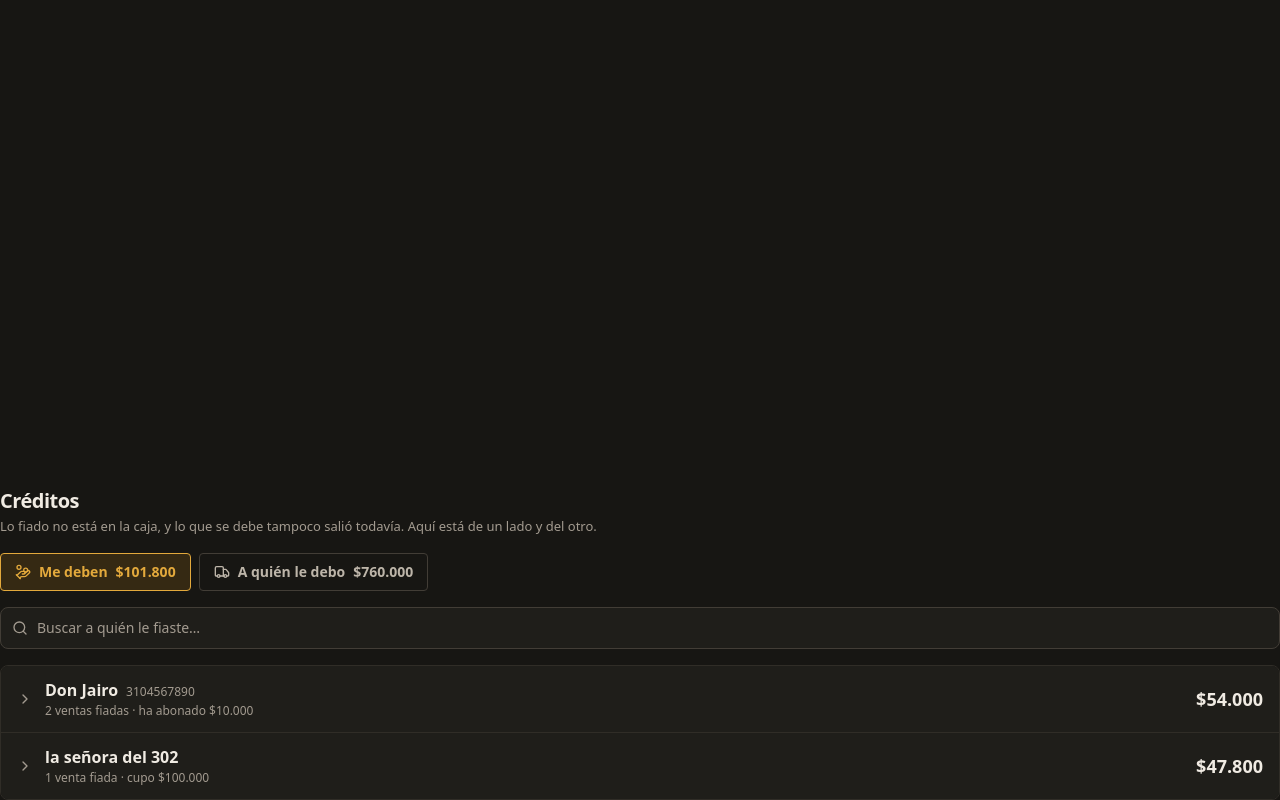
Test case: recibir un abono › «Todo» llena el saldo de esa venta
(page scrolled)
Click the text "Don Jairo": (82, 690) [45,678,118,700]
(page scrolled)
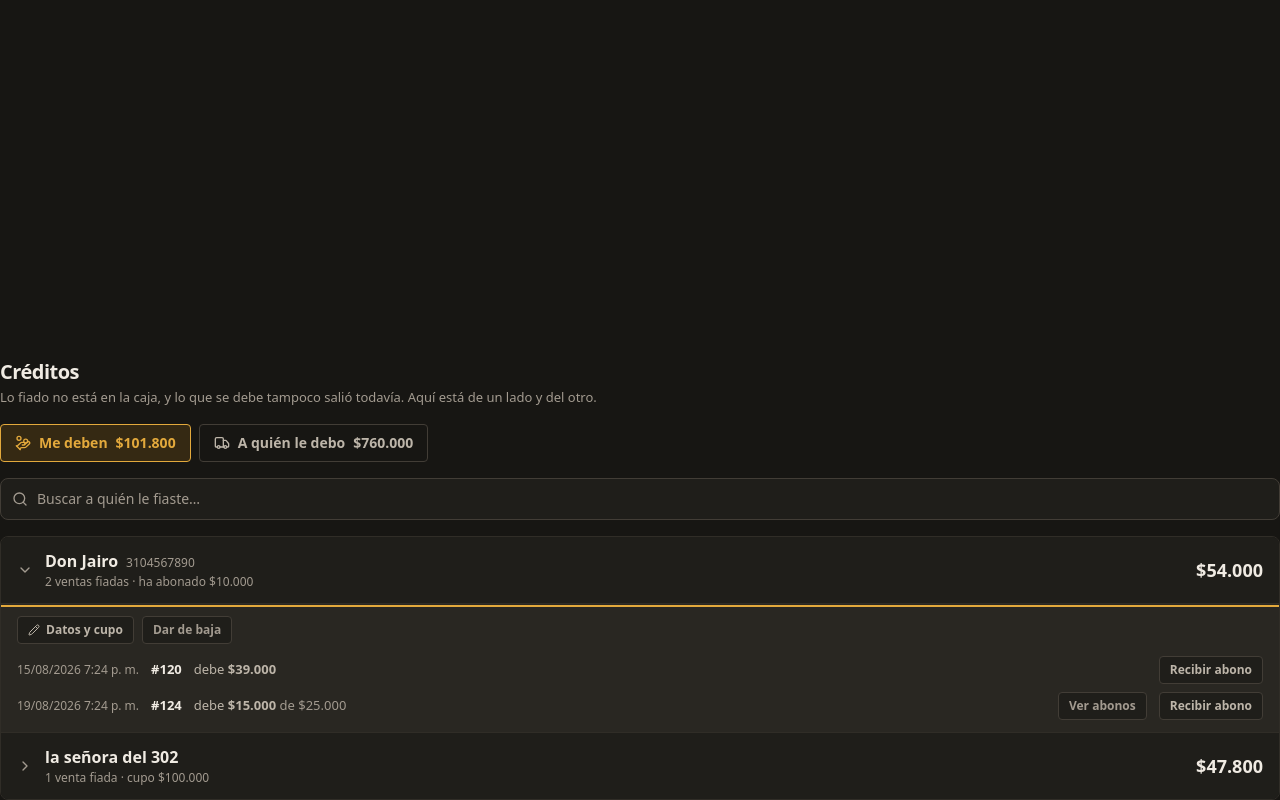
Click the button "Recibir abono" in the row of "15/08/2026 7:24 p. m.": (1211, 670) [1159,656,1263,684]
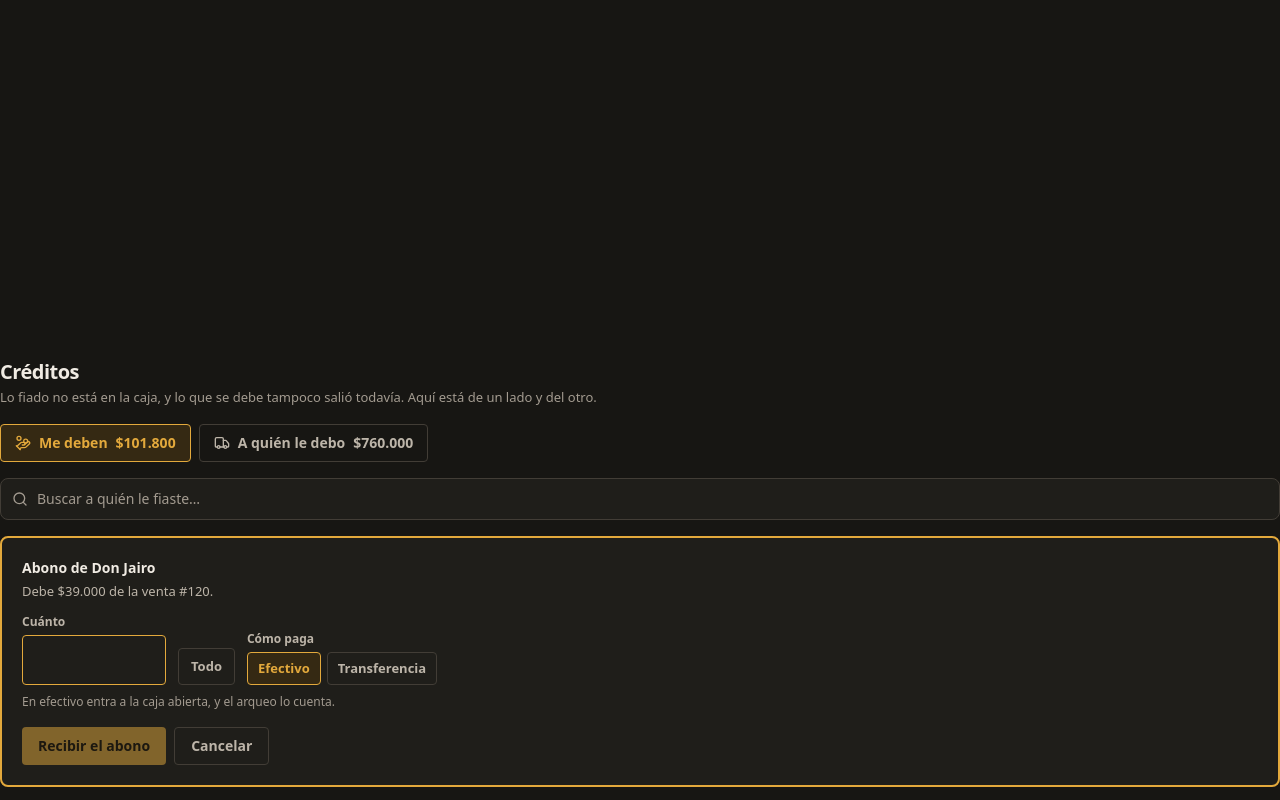
Click the button "Todo": (206, 666) [178,648,235,685]
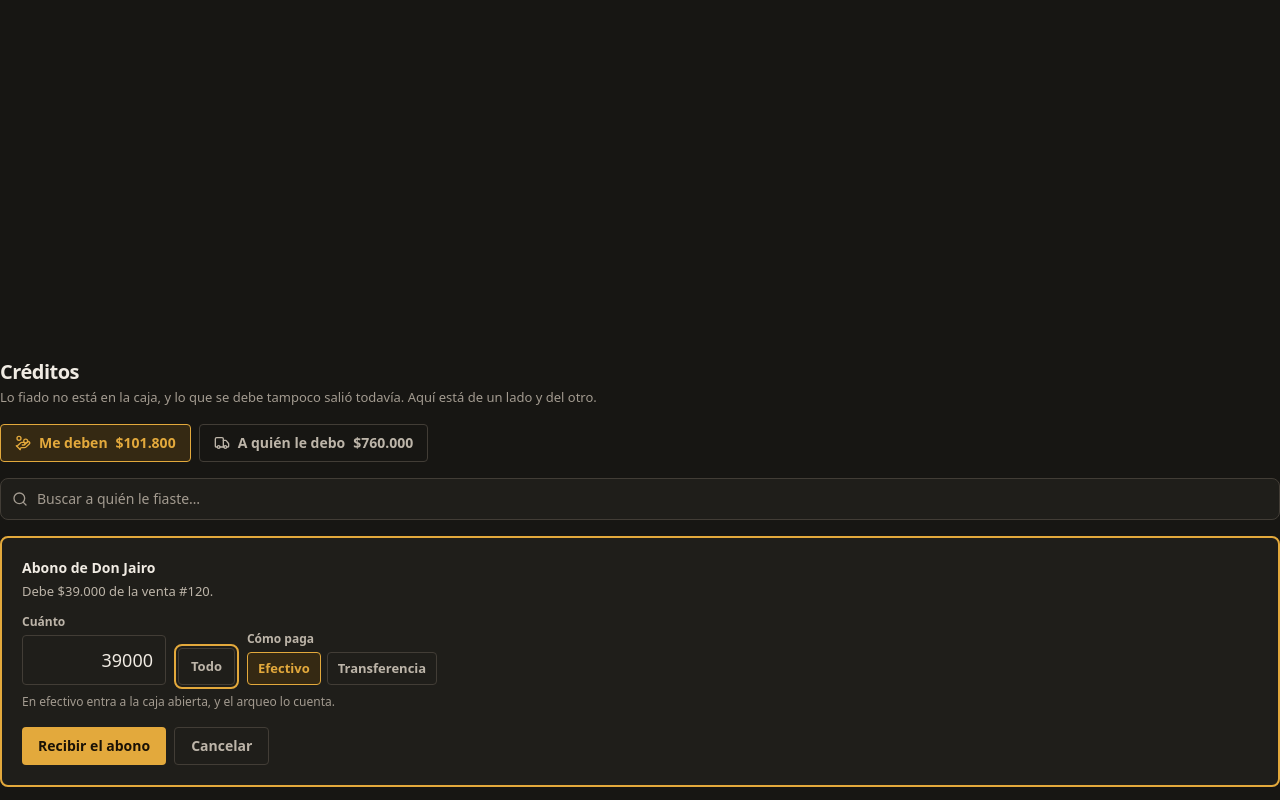
expect the field labelled "Cuánto" holds "39000": met, box [22,635,166,685]
